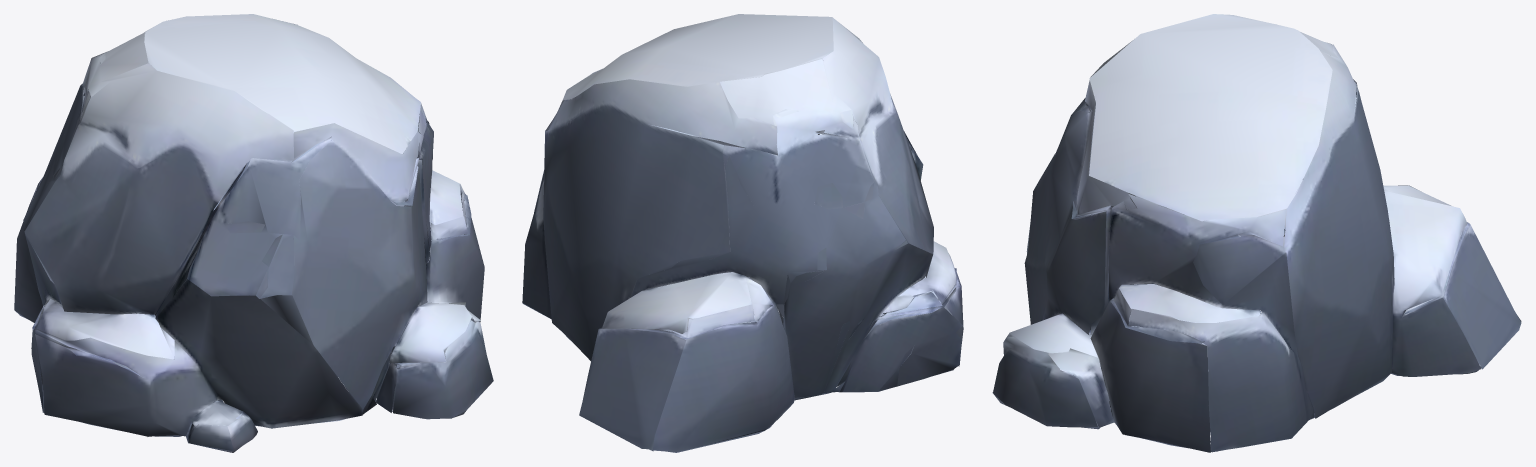
Rendered from rock_gen_b.glb.
3 views of the same model, side by side, from view 1: azimuth 30°, elevation 25°; view 2: azimuth 150°, elevation 25°; view 3: azimuth 270°, elevation 25° (orthographic). The views are drawn at different scales.
Parts seen in each view (by area): view 1: rock_gen.001; view 2: rock_gen.001; view 3: rock_gen.001.
Part boxes in pixels (<box>): rock_gen.001: <box>14,14,493,452</box>; rock_gen.001: <box>522,14,963,452</box>; rock_gen.001: <box>992,14,1521,452</box>.
Size of the model in its own units: 3.56 by 2.41 by 3.85.
Materials: 1 (1 with a texture image).
